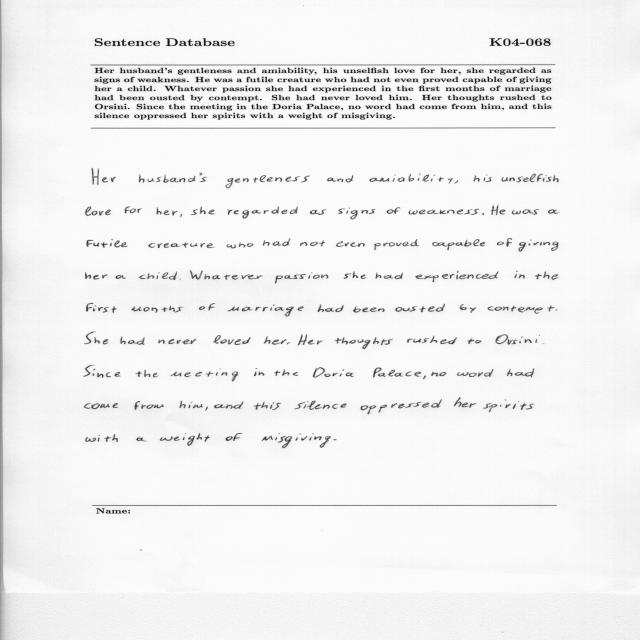word: (361, 399, 442, 415), (226, 175, 310, 189), (262, 433, 331, 448), (227, 305, 304, 317), (227, 206, 298, 219), (416, 271, 499, 282), (171, 369, 239, 382), (370, 174, 453, 184), (190, 270, 263, 280), (335, 337, 393, 349), (139, 173, 207, 183), (483, 399, 534, 412), (160, 433, 210, 446), (432, 239, 485, 250), (275, 273, 328, 284), (294, 400, 347, 410), (488, 306, 554, 314), (374, 239, 419, 250), (518, 240, 559, 252), (84, 365, 121, 378), (373, 368, 421, 378), (501, 174, 559, 182), (313, 367, 354, 378), (338, 208, 375, 220), (409, 209, 479, 215), (92, 168, 116, 185), (495, 334, 532, 345), (395, 304, 445, 312), (407, 336, 457, 344), (213, 335, 251, 345), (132, 306, 184, 313), (139, 272, 177, 281), (149, 243, 215, 248), (87, 239, 128, 247), (298, 334, 323, 346), (457, 369, 494, 377), (87, 303, 116, 313), (85, 332, 109, 344), (507, 368, 534, 378), (134, 401, 164, 410), (86, 434, 118, 442), (86, 206, 111, 216), (214, 401, 243, 409), (534, 271, 559, 280), (120, 336, 145, 345), (454, 398, 476, 408), (263, 238, 290, 246), (254, 402, 281, 410), (327, 175, 353, 183), (84, 403, 118, 409), (191, 207, 215, 215), (353, 307, 385, 313), (158, 339, 196, 344), (157, 207, 178, 216), (136, 370, 159, 378), (318, 305, 344, 312), (344, 271, 366, 279), (264, 337, 286, 345), (274, 369, 299, 376), (336, 241, 365, 247), (375, 273, 403, 279), (512, 209, 539, 215), (227, 243, 254, 249), (85, 273, 108, 280), (180, 401, 203, 408), (460, 304, 477, 313), (473, 174, 492, 182), (491, 205, 506, 215), (300, 241, 325, 247), (497, 238, 512, 247), (226, 433, 242, 441), (124, 207, 142, 214), (199, 304, 215, 311), (387, 207, 401, 214), (310, 209, 326, 215), (514, 271, 525, 279), (254, 368, 265, 376), (467, 338, 481, 344), (432, 372, 447, 376), (548, 209, 559, 214), (136, 437, 147, 442), (116, 275, 127, 279), (454, 180, 458, 184), (423, 376, 426, 380), (205, 407, 208, 411), (286, 343, 290, 345), (535, 339, 537, 343), (180, 214, 182, 217), (482, 213, 484, 215), (334, 439, 337, 440), (556, 310, 558, 311), (179, 279, 181, 279)
